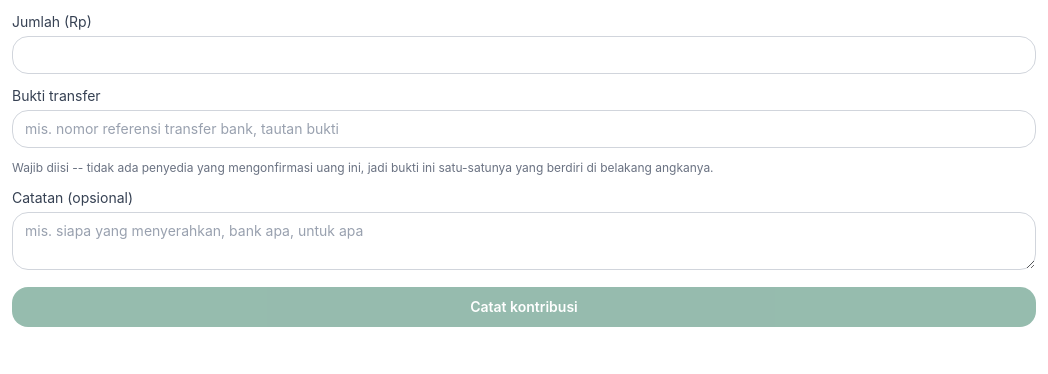
Test: AdminManualContributionCreateForm › shows the server refusal in its own words
Type "250000" into the field labelled "Jumlah (Rp)".
click(524, 55); type("250000")  # box [12,36,1036,74]
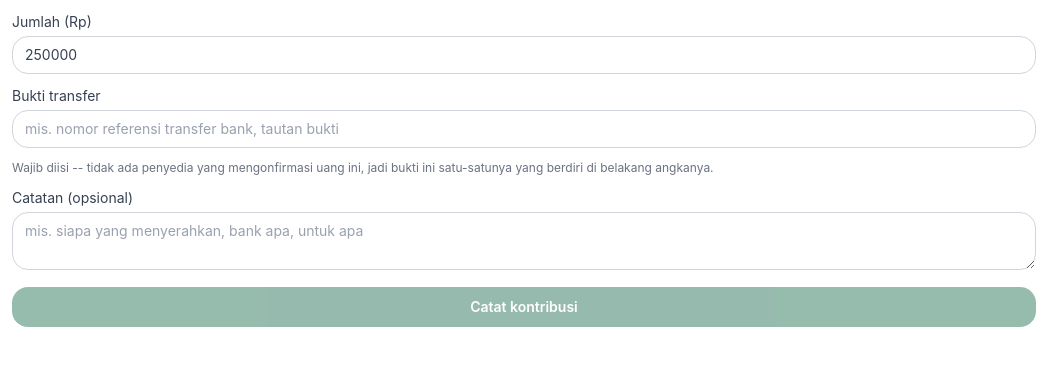
Type "bukti.pdf" into the field labelled "Bukti transfer".
click(524, 129); type("bukti.pdf")  # box [12,110,1036,148]
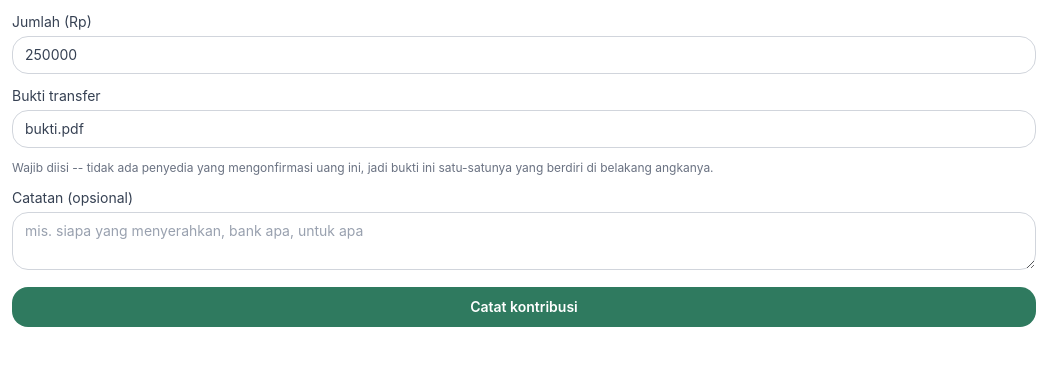
Click the button "Catat kontribusi".
click(524, 307)  # box [12,287,1036,327]
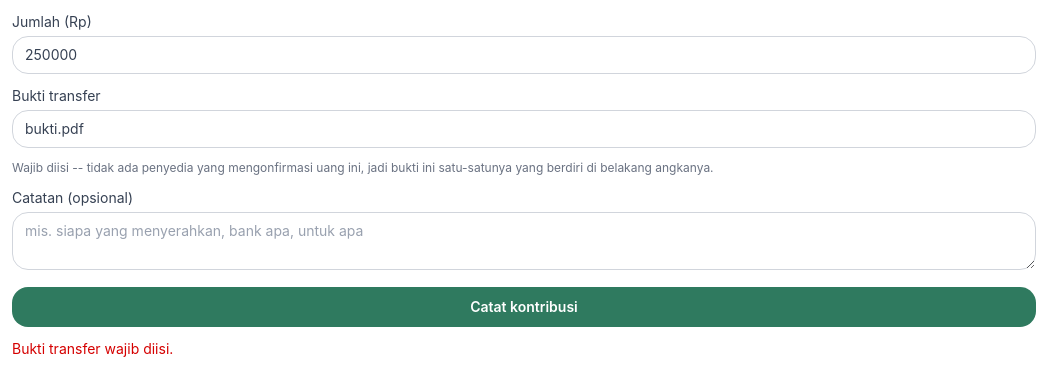
expect the message reads "Bukti transfer wajib diisi.": met, box [12,340,173,357]
